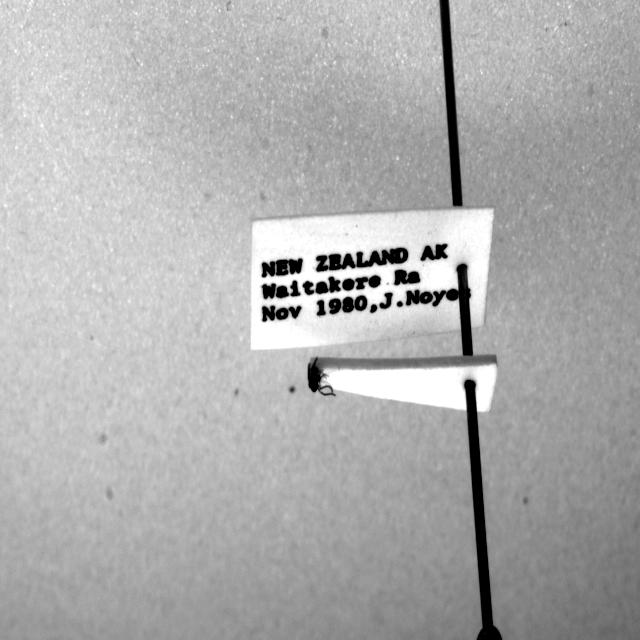typed_label: (251, 206, 494, 349)
